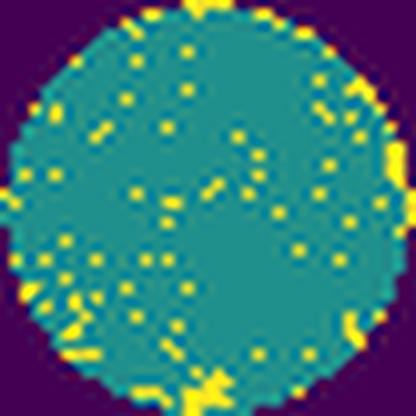Edge-Loc: (379, 133, 416, 236), (180, 360, 239, 416), (340, 70, 386, 122)
